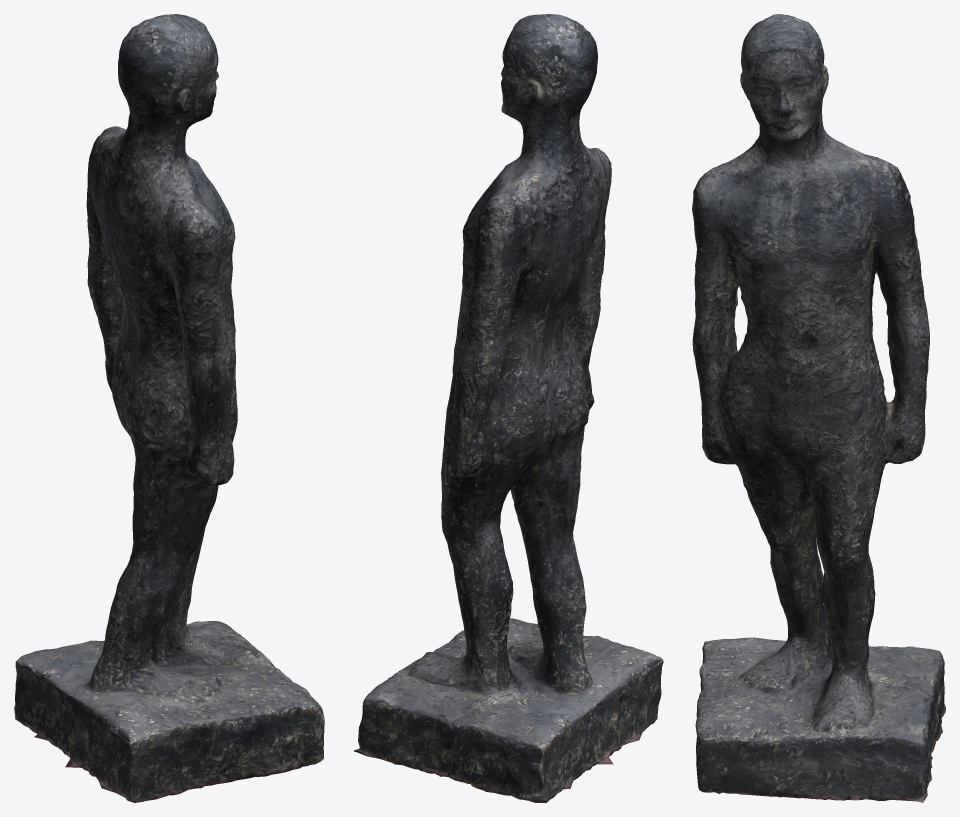
The model's file is boy.glb.
3 views of the same model, side by side, from view 1: azimuth 30°, elevation 25°; view 2: azimuth 150°, elevation 25°; view 3: azimuth 270°, elevation 25° (orthographic). The views are drawn at different scales.
Parts seen in each view (by area): view 1: Mesh_0_Part_0; view 2: Mesh_0_Part_0; view 3: Mesh_0_Part_0.
Part boxes in pixels (left/top/right/bottom): Mesh_0_Part_0: left=14, top=14, right=324, bottom=802; Mesh_0_Part_0: left=353, top=14, right=663, bottom=802; Mesh_0_Part_0: left=692, top=14, right=945, bottom=802.
Bounding box in the file's own units: 4.22 × 13.82 × 4.41.
Materials: 1 (1 with a texture image).
